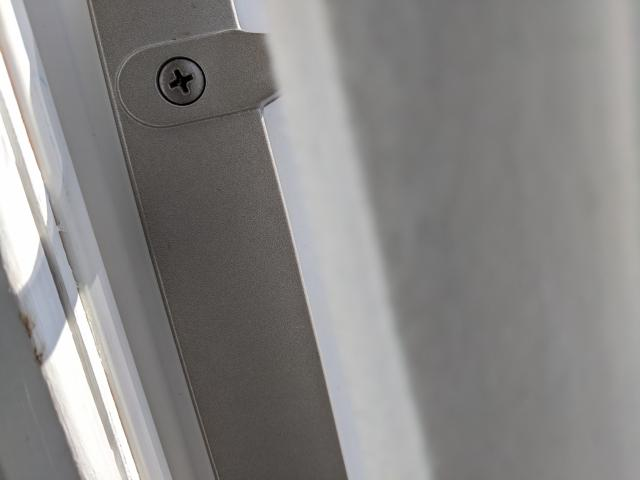CRS: (156, 56, 207, 106)
